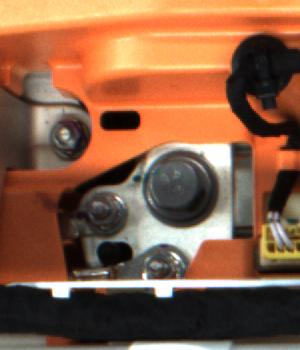nut_b: (140, 145, 222, 227)
screw_s: (83, 191, 129, 232), (43, 119, 89, 160), (143, 246, 187, 279)
